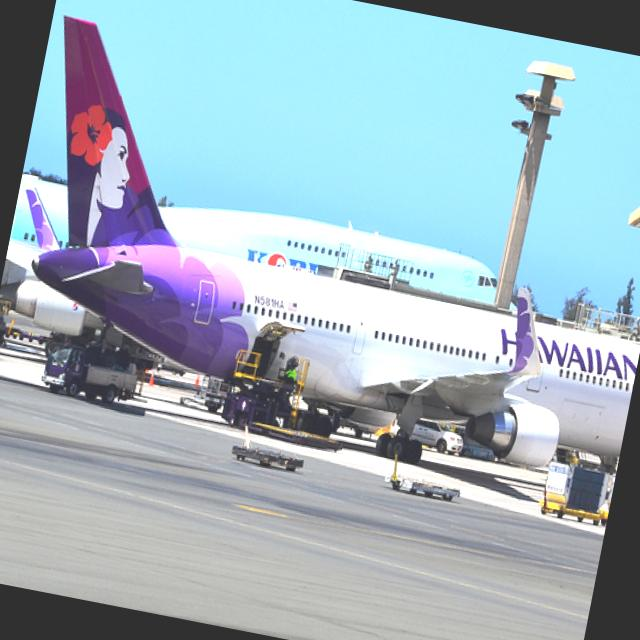Vehicle: (40, 339, 156, 412), (408, 418, 466, 458)
